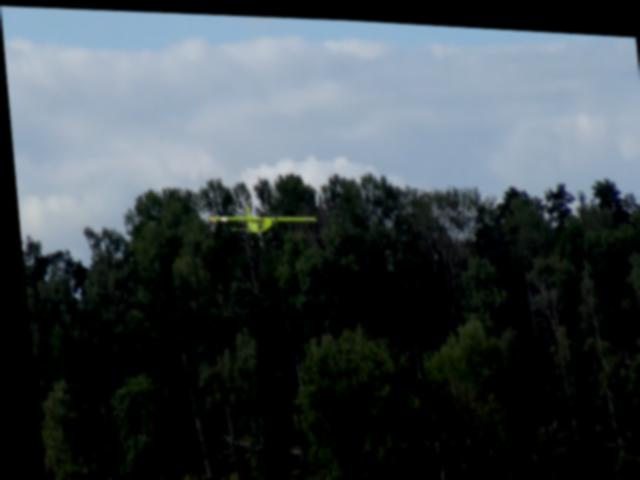plane: (203, 200, 314, 247)
